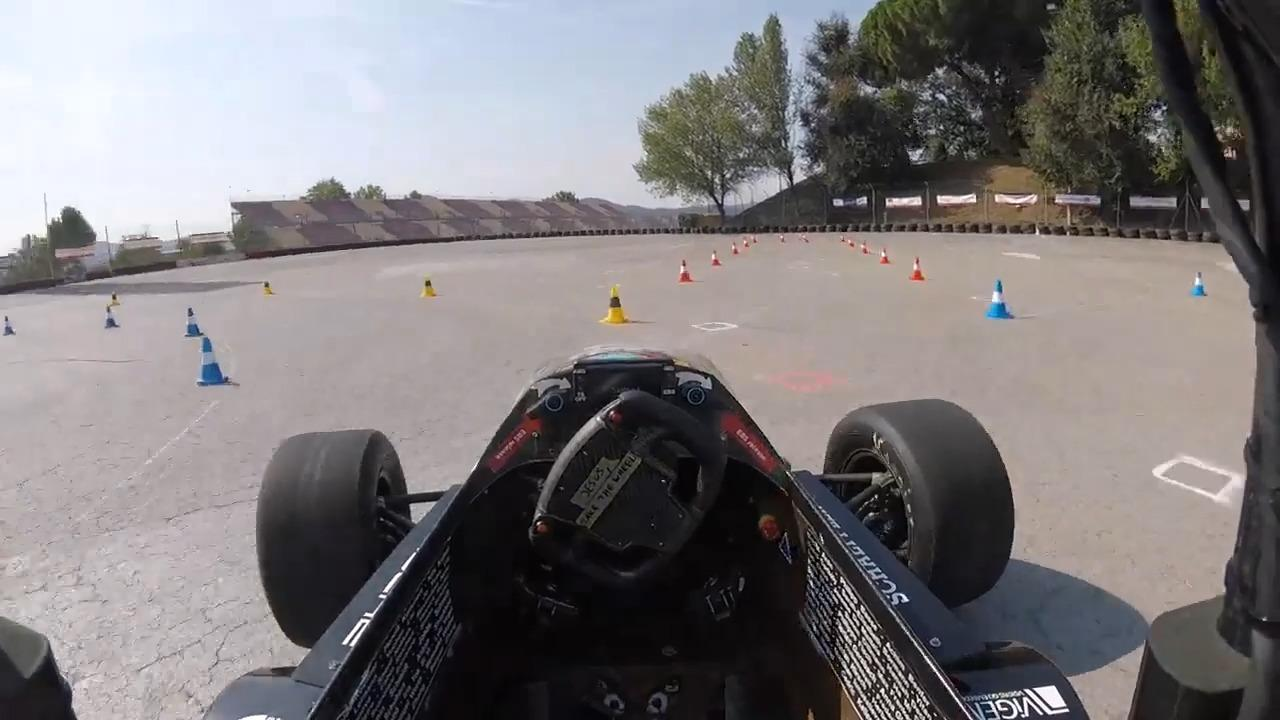blue_cone: (193, 335, 234, 389), (986, 279, 1015, 321), (180, 305, 206, 339), (1188, 270, 1210, 299), (102, 303, 120, 331), (2, 312, 17, 338)
orange_cone: (675, 257, 696, 284), (908, 255, 928, 282), (710, 247, 724, 268), (878, 245, 891, 265), (859, 240, 869, 255), (731, 242, 740, 256)
yellow_cone: (600, 283, 631, 326), (418, 273, 438, 299), (108, 288, 122, 307), (260, 278, 274, 296)
